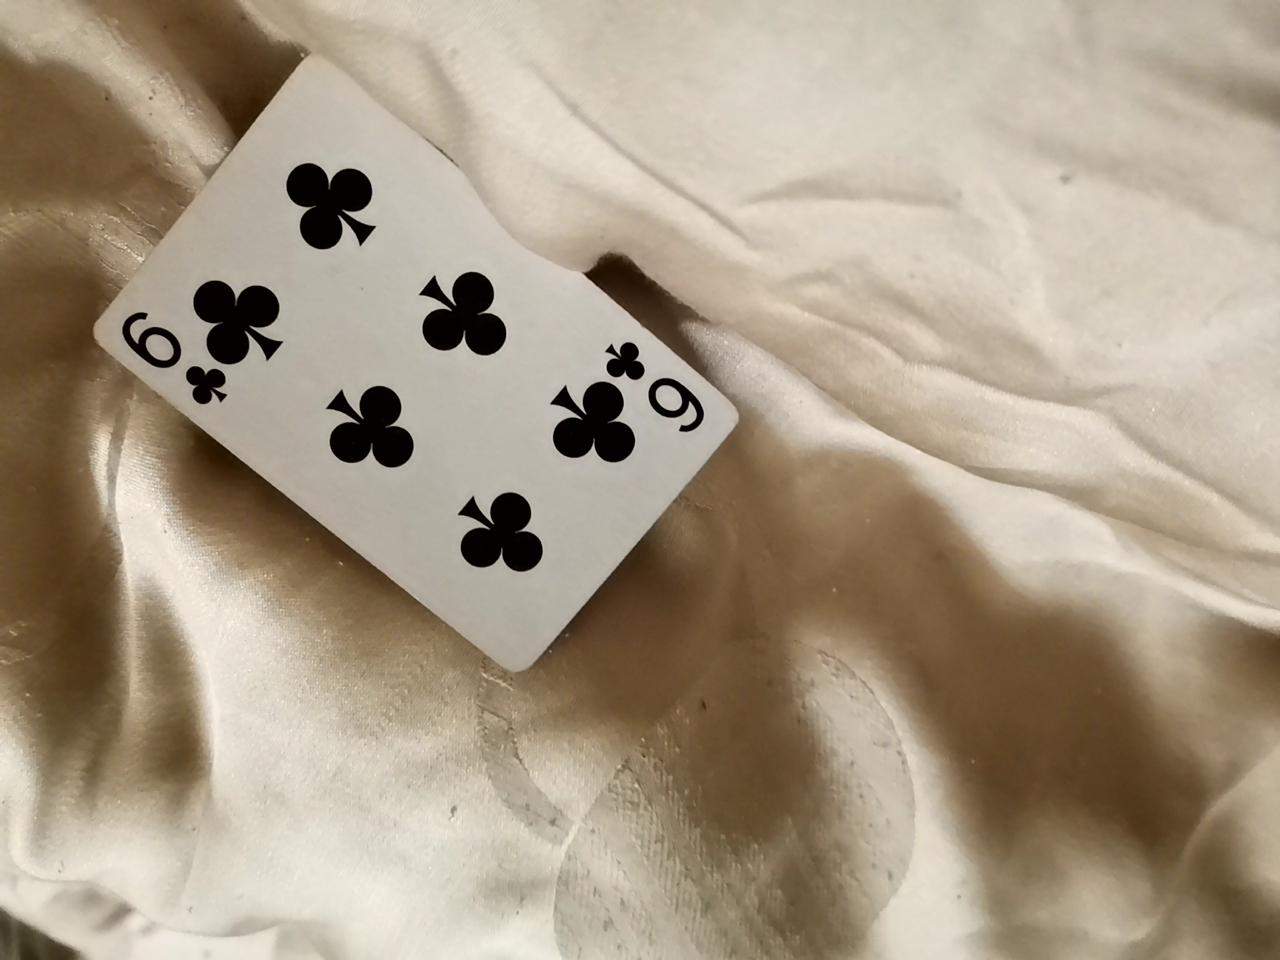mh 6: (92, 27, 758, 698)
